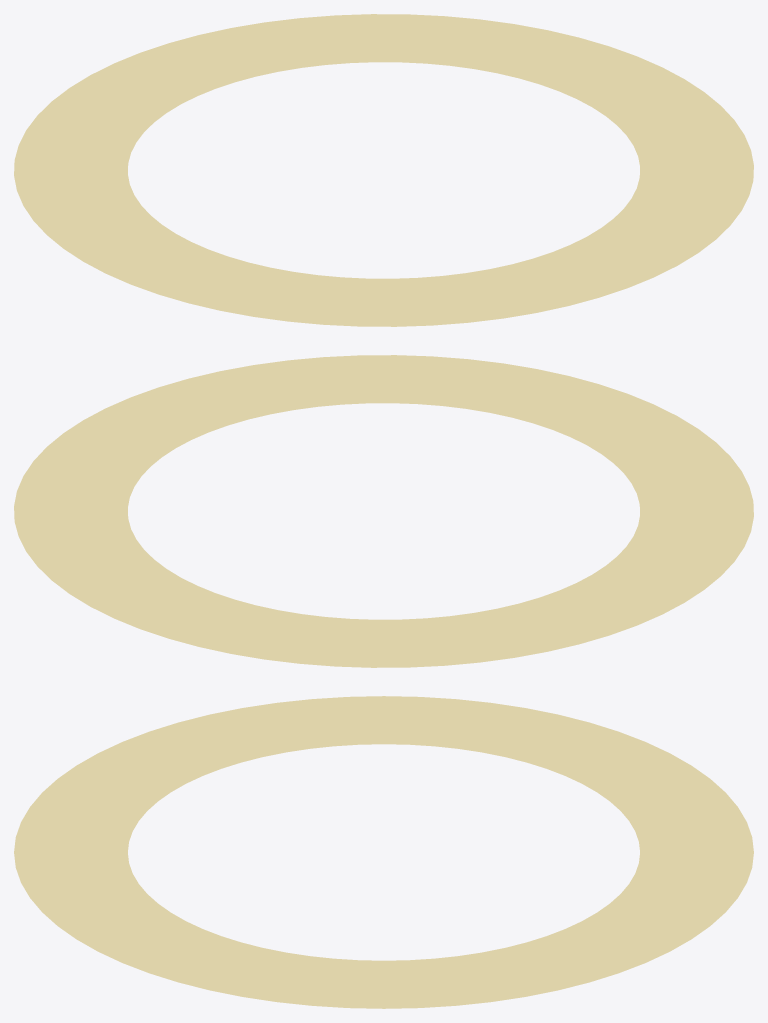
Rendered from target-ring.glb.
3 views of the same model, one above another, from view 1: azimuth 30°, elevation 25°; view 2: azimuth 150°, elevation 25°; view 3: azimuth 270°, elevation 25° (orthographic).
Visible parts, largest first — view 1: tap target ring; view 2: tap target ring; view 3: tap target ring.
Part boxes in pixels (bbox=[...]): tap target ring: bbox=[14, 14, 753, 326]; tap target ring: bbox=[14, 355, 753, 667]; tap target ring: bbox=[14, 696, 753, 1008].
Bounding box in the file's own units: 0.52 × 0 × 0.52.
